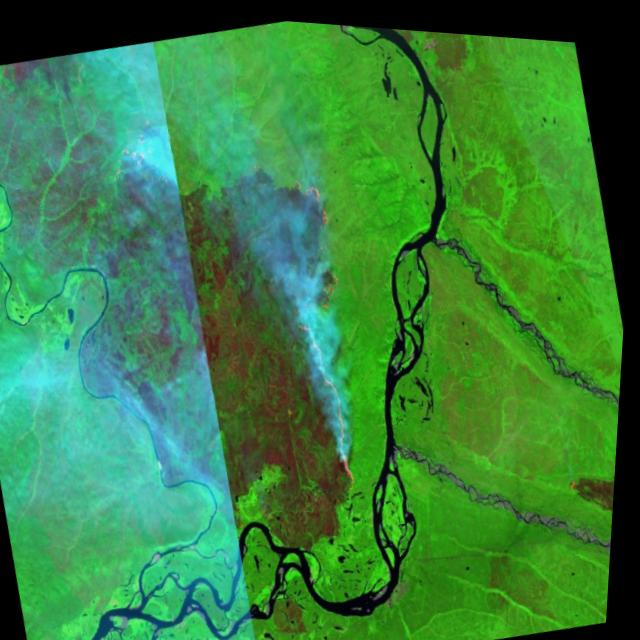fire: (249, 155, 406, 501), (95, 107, 180, 196)
